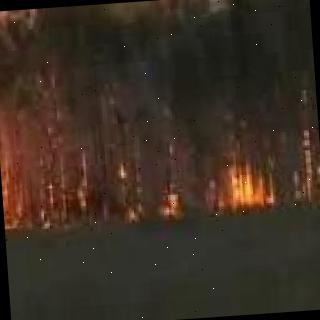fire: (24, 114, 141, 232), (214, 167, 273, 208), (290, 144, 316, 198), (160, 197, 190, 219)
